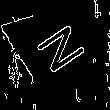N_NE: (31, 13, 93, 74)
